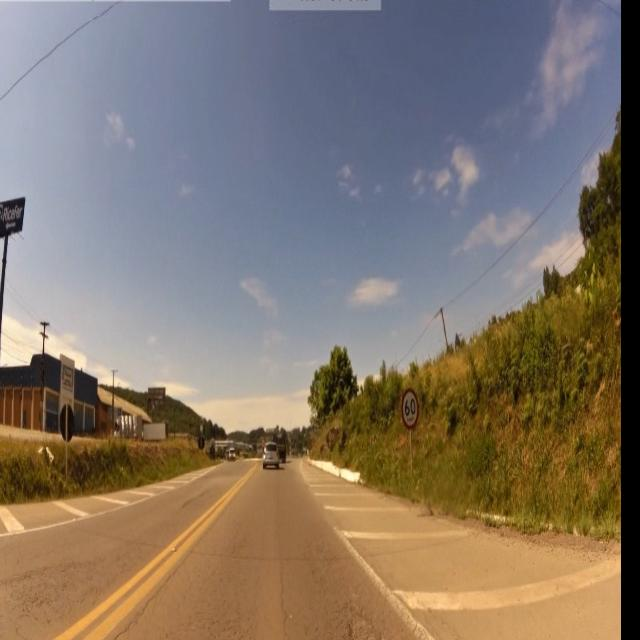R-19: (402, 387, 419, 435)
